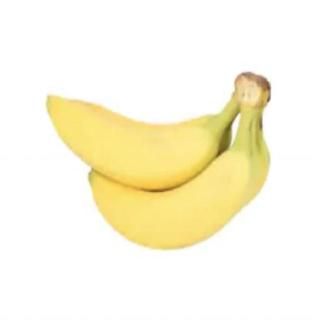banana: (84, 143, 272, 250), (43, 92, 234, 192)
